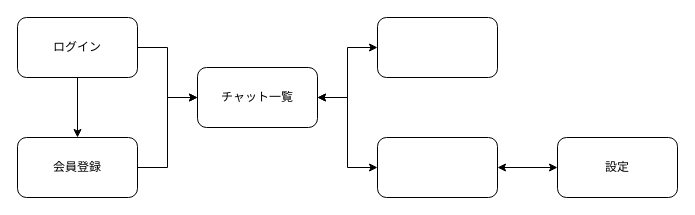
Image size: 695x215. Some labels were removed from this diagram. Here are the shapes that lost their labels. From the top down, the centre of each, then its label:
At [437,47]: "チャット".
At [437,167]: "マイページ".
